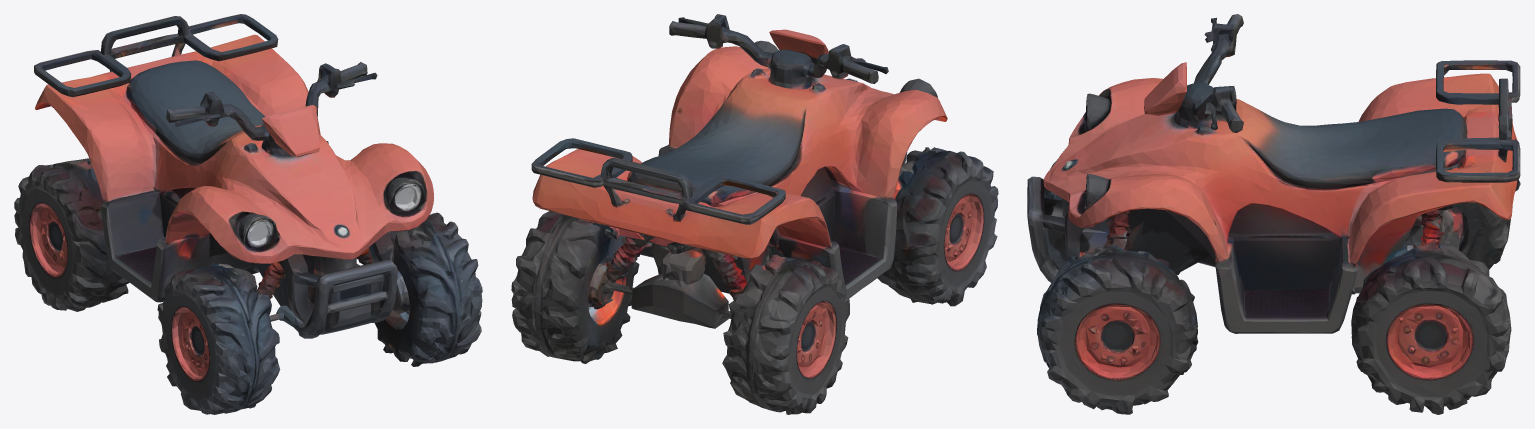
The model's file is 959ec33f-0b40-49b8-8bf4-064d9a9dfd78.glb.
The picture shows the model from 3 angles, left to right: view 1: azimuth 30°, elevation 25°; view 2: azimuth 150°, elevation 25°; view 3: azimuth 270°, elevation 25°; orthographic projection. The views are drawn at different scales.
Visible parts, largest first — view 1: tripo_node_459919ee-7190-492e-8ef3-c290850a1d9b; view 2: tripo_node_459919ee-7190-492e-8ef3-c290850a1d9b; view 3: tripo_node_459919ee-7190-492e-8ef3-c290850a1d9b.
Boxes of the visible parts, x1,y1,x2,y2 form: tripo_node_459919ee-7190-492e-8ef3-c290850a1d9b: [14, 14, 482, 414]; tripo_node_459919ee-7190-492e-8ef3-c290850a1d9b: [511, 14, 998, 414]; tripo_node_459919ee-7190-492e-8ef3-c290850a1d9b: [1027, 14, 1520, 414].
Bounding box in the file's own units: 0.6853 × 0.6588 × 1.
Materials: 1 (1 with a texture image).
